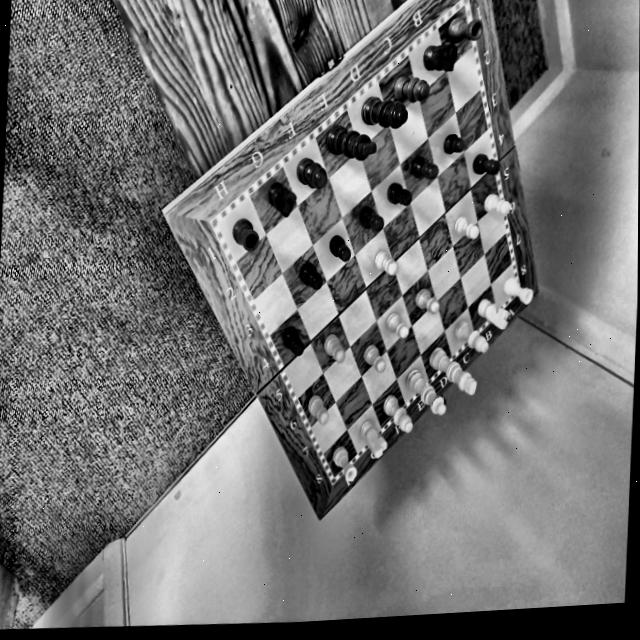black-bishop: (291, 156, 334, 192), (392, 72, 433, 102)
black-king: (322, 121, 376, 166)
black-knight: (260, 179, 302, 220), (418, 40, 460, 75)
black-pawn: (354, 204, 394, 235), (295, 256, 324, 293), (469, 152, 507, 179), (407, 155, 442, 184), (383, 183, 418, 210), (323, 232, 353, 263), (439, 128, 468, 158), (281, 324, 304, 360)
black-queen: (357, 92, 408, 135)
black-rook: (226, 219, 263, 253), (449, 14, 484, 48)
white-bishop: (379, 390, 419, 440), (451, 315, 490, 358)
white-king: (423, 345, 482, 404)
white-knight: (356, 418, 388, 462), (476, 295, 514, 331)
white-pawn: (319, 331, 348, 368), (303, 392, 331, 428), (360, 340, 388, 375), (370, 249, 401, 279), (381, 311, 411, 342), (413, 284, 439, 319), (482, 191, 512, 220), (452, 214, 482, 237)
white-queen: (402, 368, 450, 418)
white-rook: (502, 271, 542, 311), (326, 441, 361, 484)
